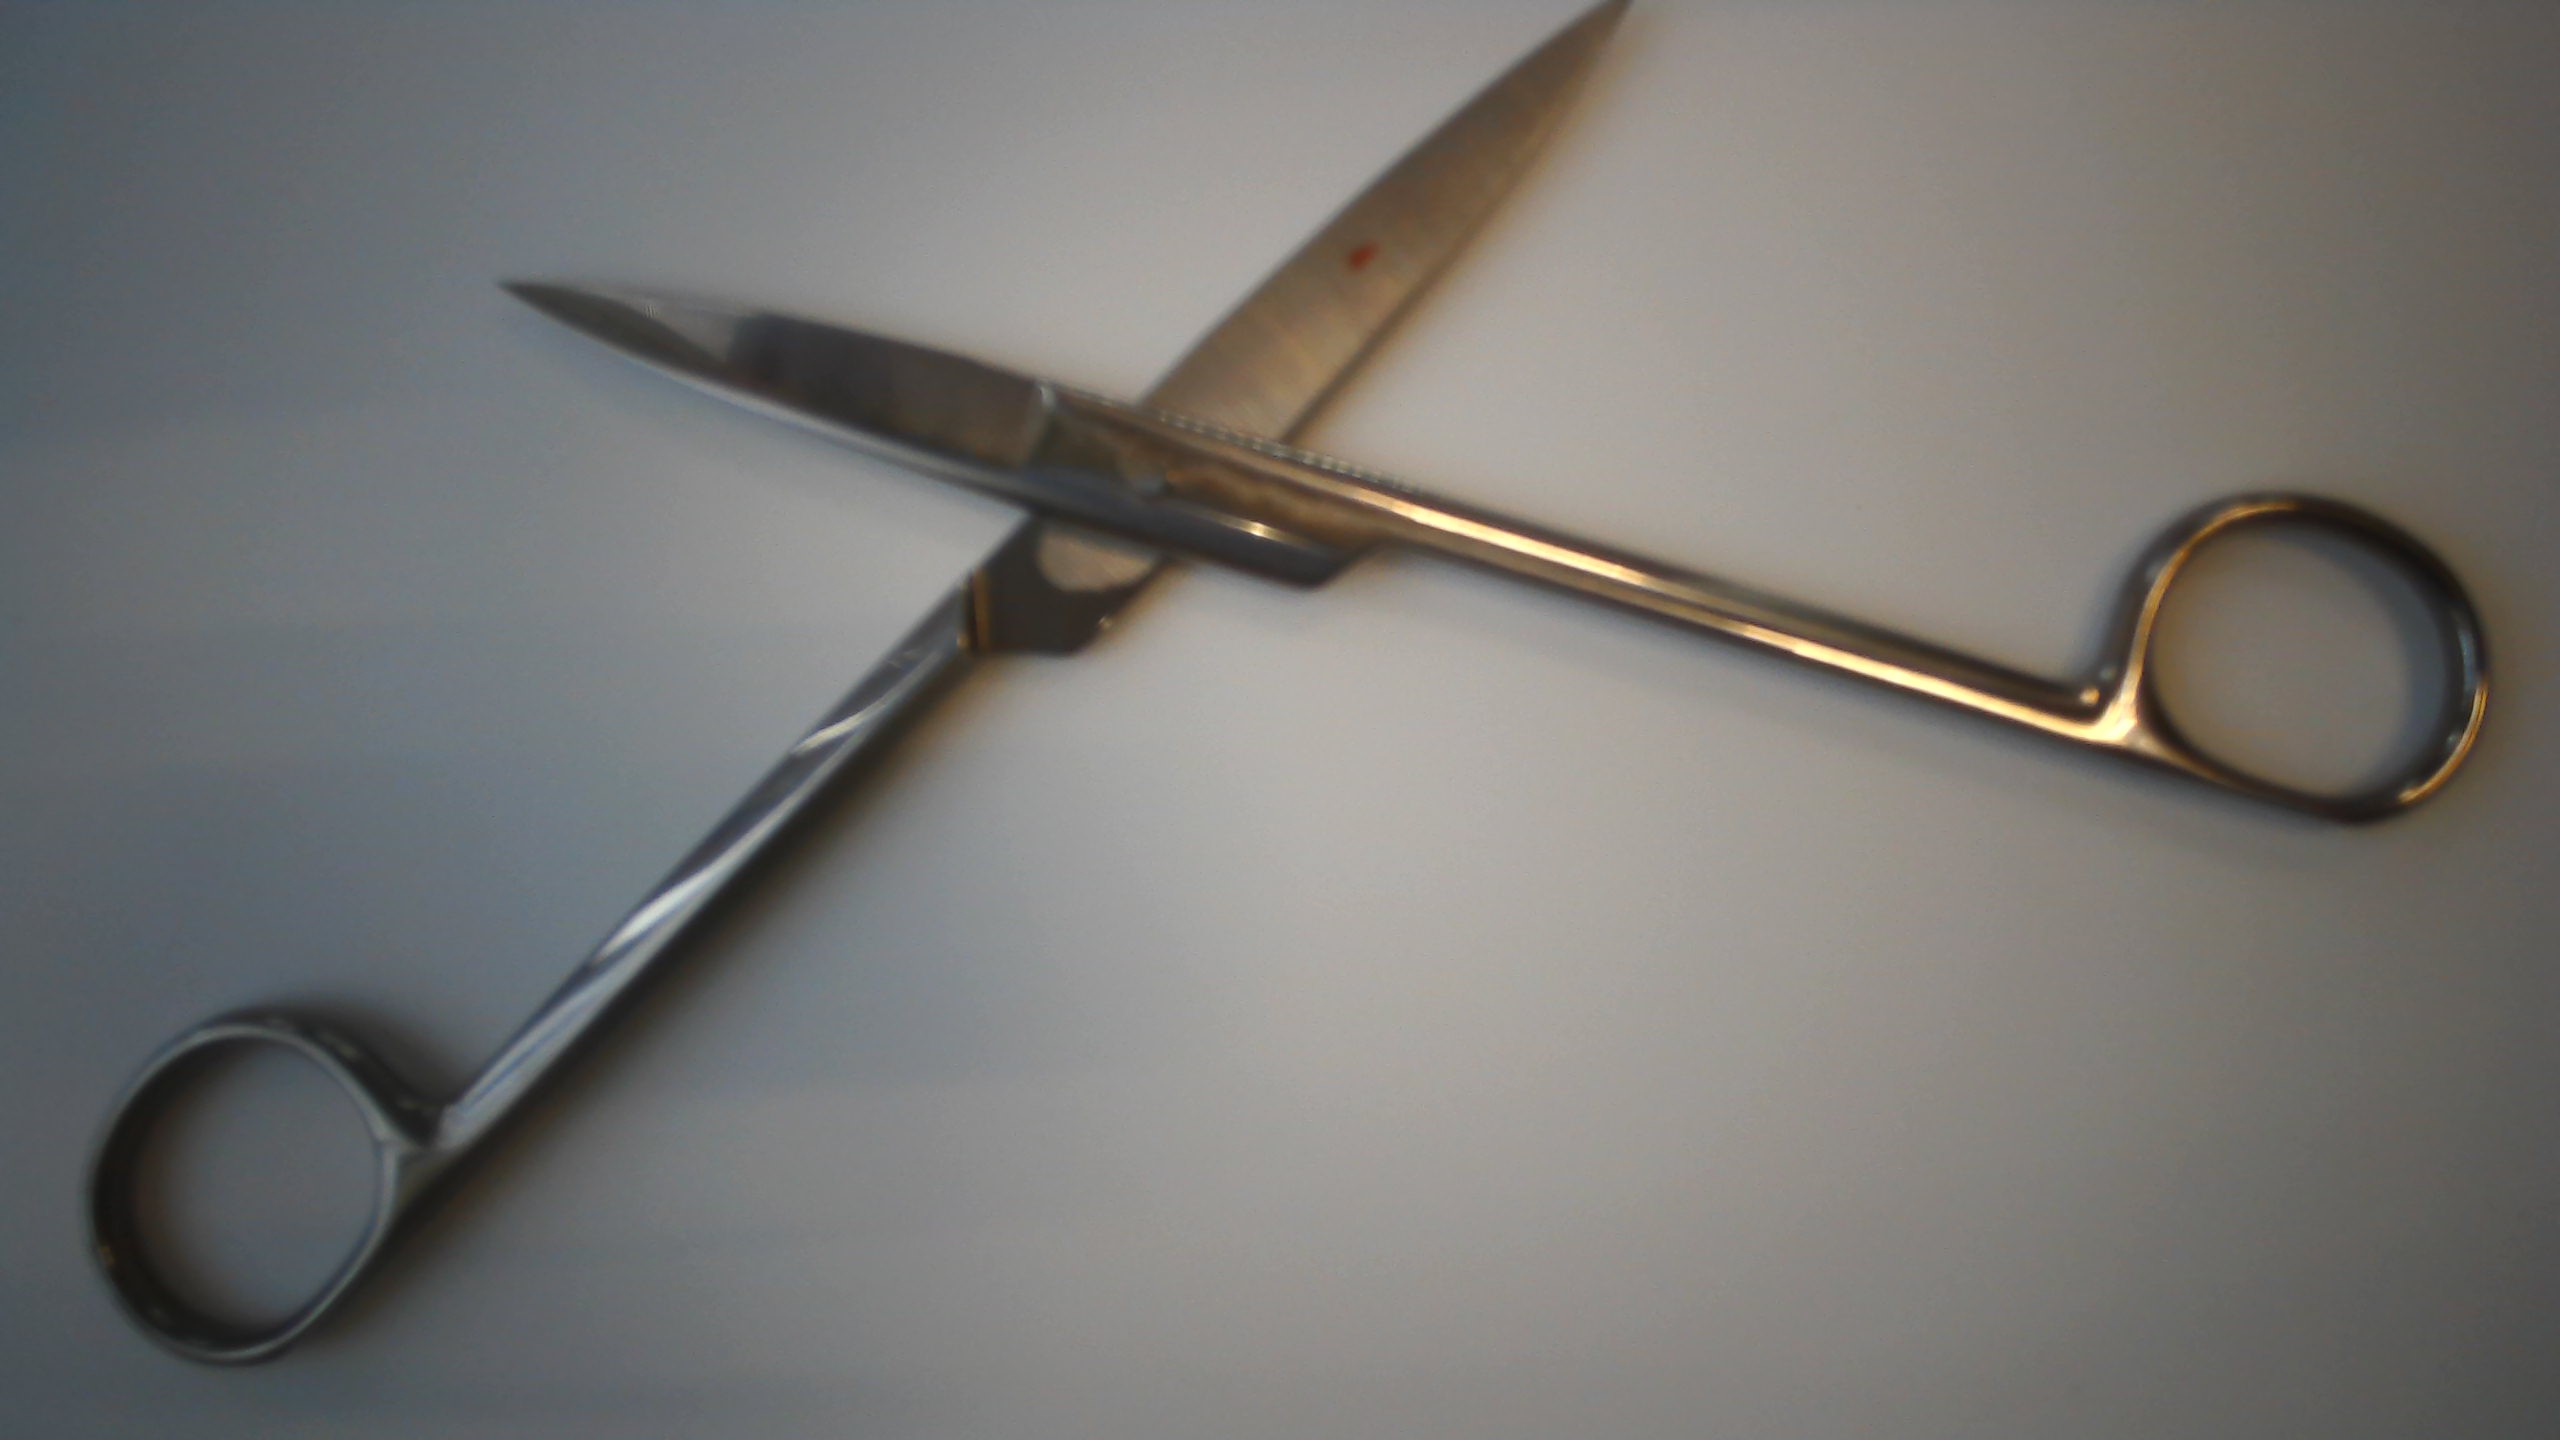Stain: (1336, 234, 1396, 280)
